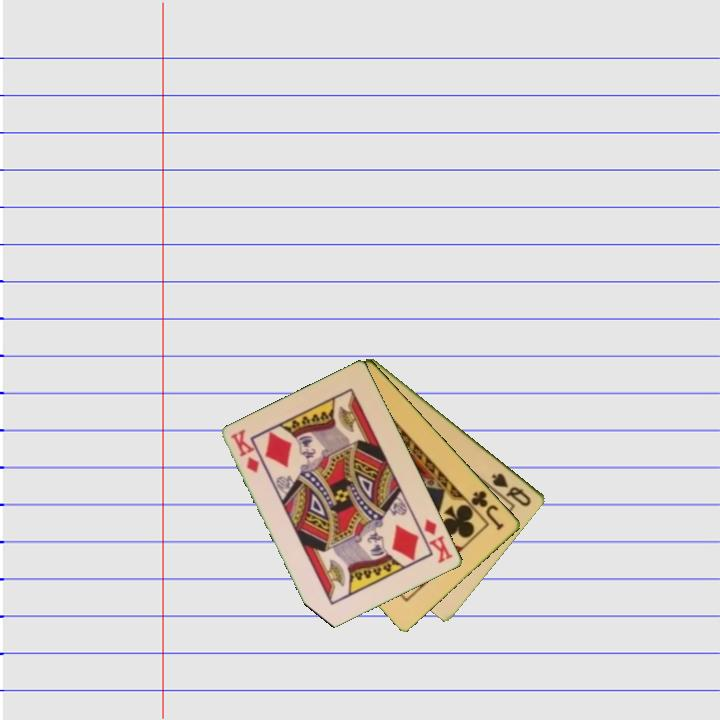Jc: (468, 487, 507, 533)
Kd: (227, 426, 263, 476), (421, 515, 456, 566)
Qs: (488, 469, 534, 510)
